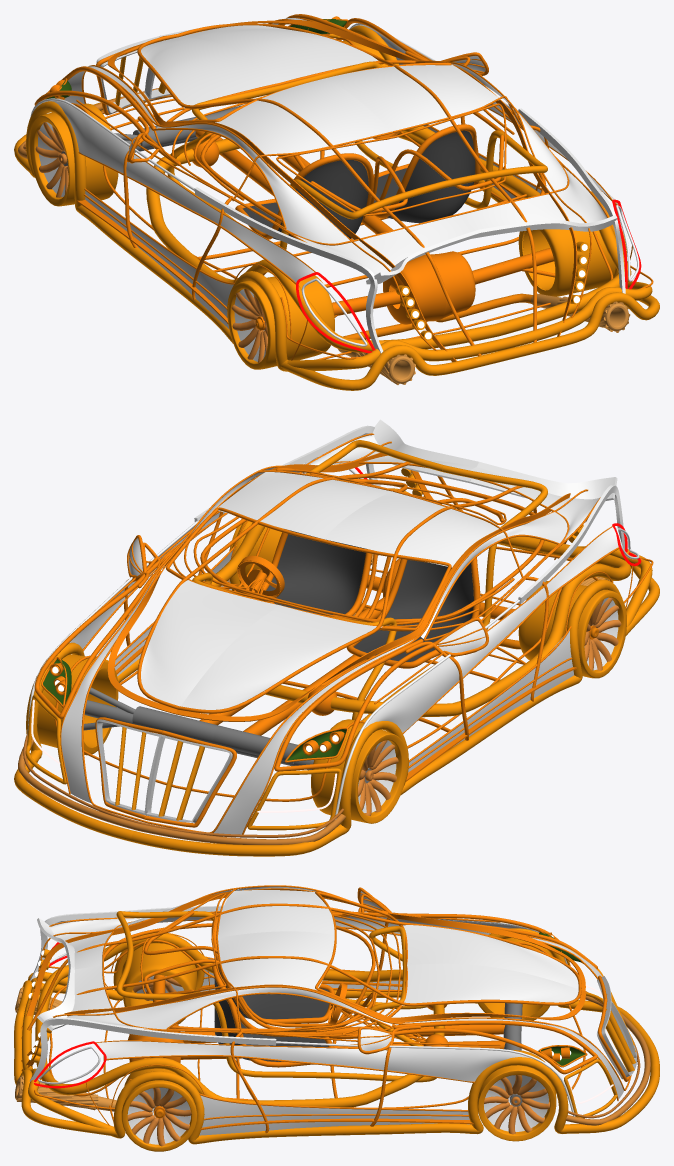
Rendered from car2.glb.
3 views of the same model, one above another, from view 1: azimuth 30°, elevation 25°; view 2: azimuth 150°, elevation 25°; view 3: azimuth 270°, elevation 25° (orthographic). The views are drawn at different scales.
Parts seen in each view (by area): view 1: Object_41, Object_22, Object_61, Object_65, Object_38, Object_40, Object_55, Object_35, Object_56, Object_60, Object_37, Object_28 (+26 smaller); view 2: Object_22, Object_41, Object_61, Object_40, Object_55, Object_38, Object_65, Object_35, Object_34, Object_66, Object_56, Object_33 (+26 smaller); view 3: Object_22, Object_41, Object_58, Object_61, Object_65, Object_36, Object_38, Object_40, Object_54, Object_56, Object_52, Object_28 (+39 smaller).
Part boxes in pixels (x1,y1,x2,y2): Object_41: (126, 37, 479, 346); Object_22: (34, 34, 481, 362); Object_61: (14, 54, 512, 390); Object_65: (146, 126, 631, 352); Object_38: (323, 64, 500, 131); Object_40: (180, 23, 378, 82); Object_55: (50, 66, 233, 328); Object_35: (373, 130, 475, 223); Object_56: (30, 23, 625, 353); Object_60: (518, 229, 626, 296); Object_37: (460, 168, 606, 230); Object_28: (282, 61, 589, 304); Object_22: (145, 478, 653, 834); Object_41: (181, 462, 639, 709); Object_61: (131, 545, 659, 856); Object_40: (141, 580, 280, 706); Object_55: (214, 631, 573, 834); Object_38: (218, 472, 392, 538); Object_65: (211, 523, 631, 717); Object_35: (266, 530, 365, 614); Object_34: (354, 560, 473, 661); Object_66: (83, 687, 371, 783); Object_56: (27, 425, 624, 819); Object_33: (358, 597, 621, 815); Object_22: (21, 885, 607, 1064); Object_41: (37, 886, 578, 988); Object_58: (22, 1042, 659, 1144); Object_61: (14, 928, 659, 1069); Object_65: (35, 932, 444, 1107); Object_36: (37, 966, 391, 1084); Object_38: (218, 931, 334, 990); Object_40: (402, 963, 578, 1005); Object_54: (199, 1095, 469, 1135); Object_56: (29, 905, 575, 1116); Object_52: (387, 1047, 532, 1081); Object_28: (30, 947, 436, 1082).
Bounding box in the file's own units: 0.5003 × 0.2324 × 0.9153.
